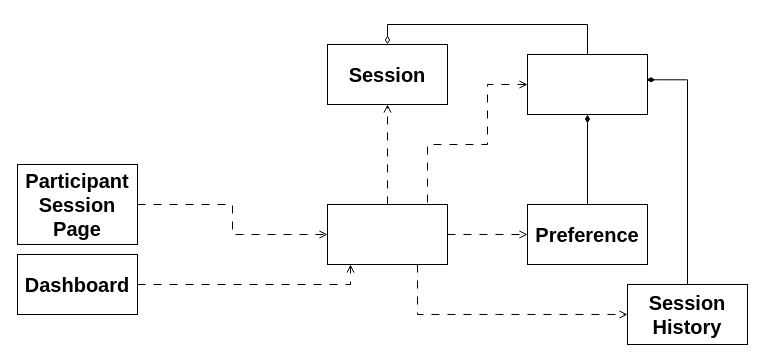
The diagram is 765 pixels wide and 362 high, and some of its shapes have lost their labels. Each missing label, with the centre of its shape:
"Mentee" goes at (587,84).
"Session Control" goes at (387,234).
